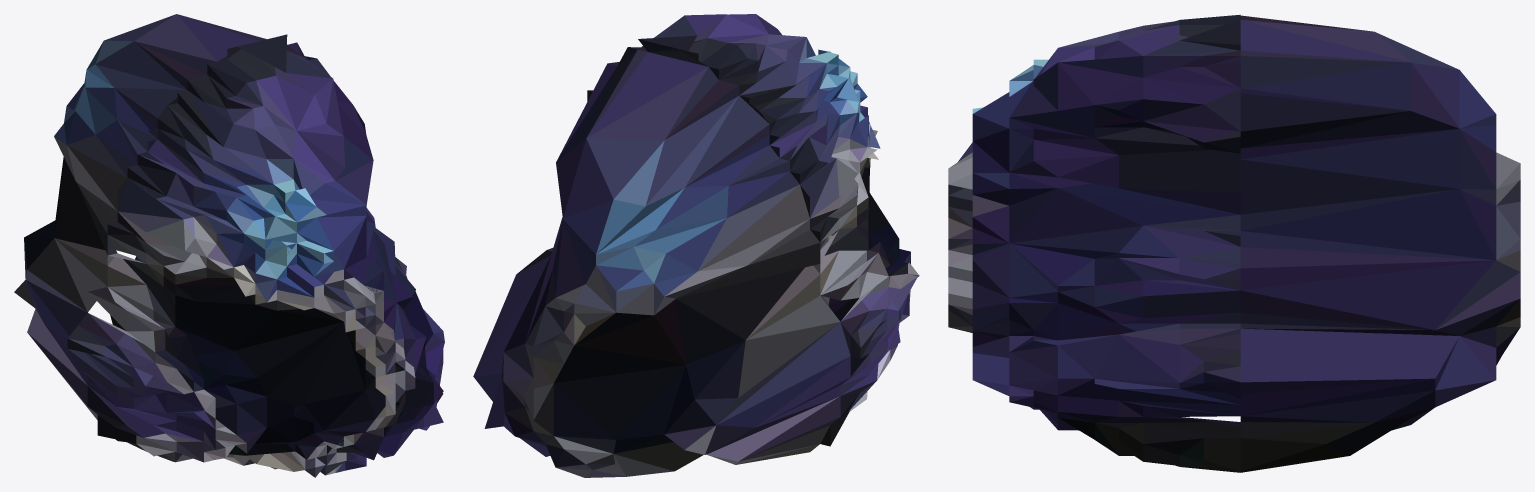
The model's file is B10_4_runeweaver_hood.obj.
The picture shows the model from 3 angles, left to right: view 1: azimuth 30°, elevation 25°; view 2: azimuth 150°, elevation 25°; view 3: azimuth 270°, elevation 25°; orthographic projection. The views are drawn at different scales.
Visible parts, largest first — view 1: B10_4_runeweaver_hood; view 2: B10_4_runeweaver_hood; view 3: B10_4_runeweaver_hood.
Part boxes in pixels (bbox=[...]): B10_4_runeweaver_hood: bbox=[14, 14, 444, 477]; B10_4_runeweaver_hood: bbox=[473, 14, 919, 477]; B10_4_runeweaver_hood: bbox=[948, 14, 1520, 472].
Size of the model in its own units: 34 by 37 by 47.
